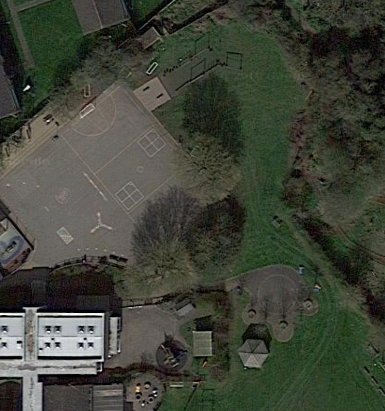tree: (169, 121, 245, 207), (183, 219, 263, 283), (125, 233, 194, 301)
